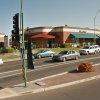Car: (45, 46, 83, 63)
